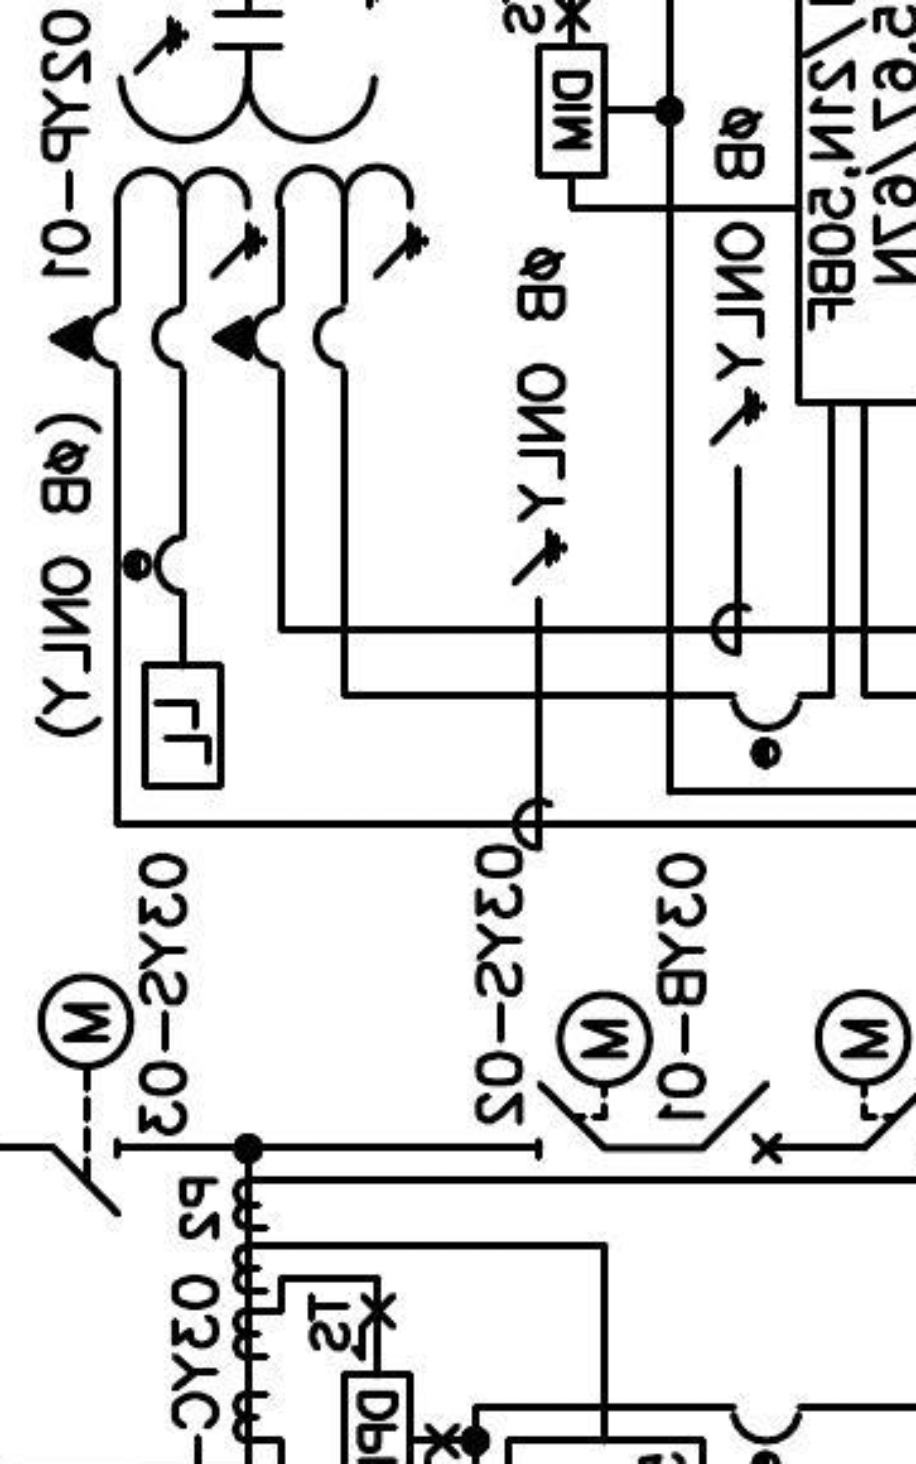115_1way_ds_w_motor: (34, 970, 136, 1220), (534, 987, 656, 1162)
115_breaker: (700, 1078, 783, 1166)
115_cvt_1p: (46, 8, 432, 376)
DIM: (534, 42, 609, 180)
LL: (141, 660, 226, 791)
